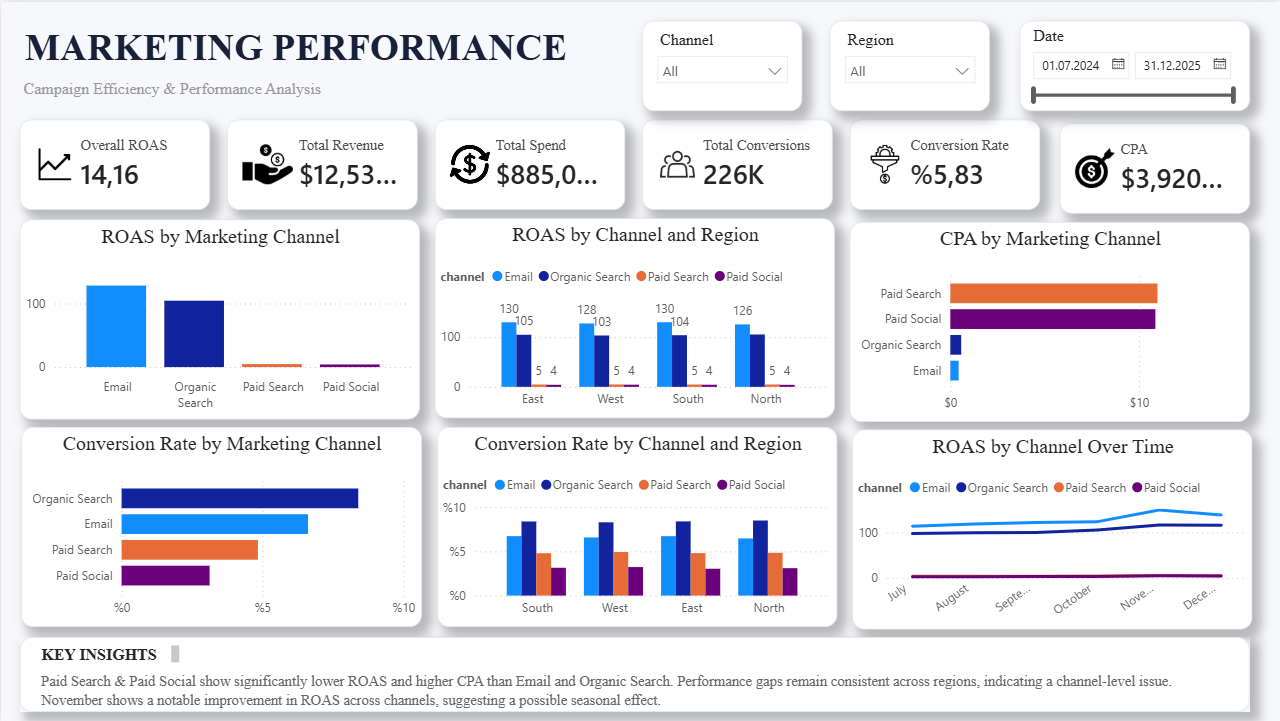

Layout of this report page (visuals, bound fields, positions):
{"tool":"powerbi","page":{"name":"Page 1","canvas":[1280,720],"ordinal":0},"visuals":[{"type":"cardVisual","title":"Overall ROAS","fields":{"Data":["marketing_events.ROAS"]},"box":[18.3,117.6,190,90],"z":0},{"type":"cardVisual","fields":{"Data":["marketing_events.Total Revenue"]},"box":[226,117.3,190,90],"z":1000},{"type":"cardVisual","fields":{"Data":["marketing_events.Total Spend"]},"box":[433.7,117.3,190,90],"z":2000},{"type":"cardVisual","fields":{"Data":["marketing_events.Total Conversions"]},"box":[641.3,117.3,190,90],"z":3000},{"type":"cardVisual","fields":{"Data":["marketing_events.Conversion Rate"]},"box":[849,117.3,190,90],"z":4000},{"type":"cardVisual","fields":{"Data":["marketing_events.CPA"]},"box":[1059.3,121.6,190,90],"z":5000},{"type":"clusteredColumnChart","title":"ROAS by Marketing Channel","fields":{"Category":["marketing_events.channel"],"Y":["marketing_events.ROAS"]},"box":[18.3,217.7,400,200],"z":6000},{"type":"clusteredColumnChart","title":"ROAS by Channel and Region","fields":{"Category":["marketing_events.region"],"Y":["marketing_events.ROAS"],"Series":["marketing_events.channel"]},"box":[433.8,216.3,400,200],"z":7000},{"type":"clusteredBarChart","title":"CPA by Marketing Channel","fields":{"Y":["marketing_events.CPA"],"Category":["marketing_events.channel"]},"box":[849.3,219.4,400,200],"z":8000},{"type":"clusteredBarChart","title":"Conversion Rate by Marketing Channel","fields":{"Category":["marketing_events.channel"],"Y":["marketing_events.Conversion Rate"]},"box":[20.3,425.2,400.7,200],"z":9000},{"type":"clusteredColumnChart","title":"Conversion Rate by Channel and Region","fields":{"Category":["marketing_events.region"],"Y":["marketing_events.Conversion Rate"],"Series":["marketing_events.channel"]},"box":[436.2,425.2,400,200],"z":10000},{"type":"lineChart","title":"ROAS by Channel Over Time","fields":{"Series":["marketing_events.channel"],"Y":["marketing_events.ROAS"],"Category":["marketing_events.date.Variation.Date Hierarchy.Month"]},"box":[851.3,427.2,400,200],"z":11000},{"type":"textbox","box":[18.3,18.3,570,55],"z":12000},{"type":"textbox","box":[18,73,400,28.3],"z":13000},{"type":"shape","box":[18.3,635,1230,75],"z":14000},{"type":"slicer","fields":{"Values":["marketing_events.channel"]},"box":[641.7,18.6,160,90],"z":15000},{"type":"slicer","fields":{"Values":["marketing_events.region"]},"box":[829.2,18.6,160,90],"z":16000},{"type":"slicer","fields":{"Values":["marketing_events.date"]},"box":[1018.8,18.6,230,90],"z":17000},{"type":"textbox","box":[35,638.3,148.3,26.7],"z":18000},{"type":"textbox","box":[35,665,1200,50],"z":19000}]}

Visuals, with their boxes in screenshot pixels (x1, y1, x2, y2), scaled from the page's 1280x720 canvas onto the 1280x721 screenshot:
"Overall ROAS" cardVisual: 18, 118, 208, 208
cardVisual - marketing_events.Total Revenue: 226, 117, 416, 208
cardVisual - marketing_events.Total Spend: 434, 117, 624, 208
cardVisual - marketing_events.Total Conversions: 641, 117, 831, 208
cardVisual - marketing_events.Conversion Rate: 849, 117, 1039, 208
cardVisual - marketing_events.CPA: 1059, 122, 1249, 212
"ROAS by Marketing Channel" clusteredColumnChart: 18, 218, 418, 418
"ROAS by Channel and Region" clusteredColumnChart: 434, 217, 834, 417
"CPA by Marketing Channel" clusteredBarChart: 849, 220, 1249, 420
"Conversion Rate by Marketing Channel" clusteredBarChart: 20, 426, 421, 626
"Conversion Rate by Channel and Region" clusteredColumnChart: 436, 426, 836, 626
"ROAS by Channel Over Time" lineChart: 851, 428, 1251, 628
textbox: 18, 18, 588, 73
textbox: 18, 73, 418, 101
shape: 18, 636, 1248, 711
slicer - marketing_events.channel: 642, 19, 802, 109
slicer - marketing_events.region: 829, 19, 989, 109
slicer - marketing_events.date: 1019, 19, 1249, 109
textbox: 35, 639, 183, 666
textbox: 35, 666, 1235, 716
